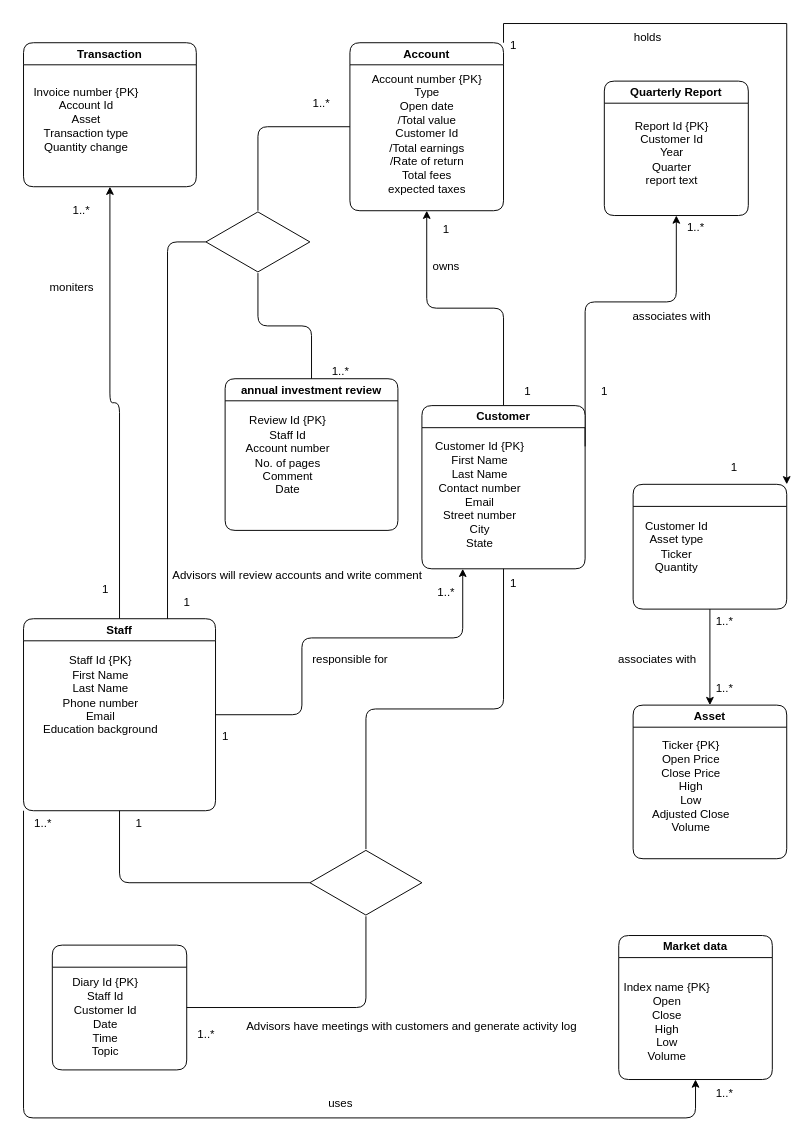
The diagram is 811 pixels wide and 1142 high, and some of its shapes have lost their labels. Each missing label, with the box of its shape:
Account holdings: (632, 483, 787, 609)
Activity Log: (51, 944, 187, 1070)
meeting: (309, 848, 422, 916)
review: (205, 210, 310, 273)
